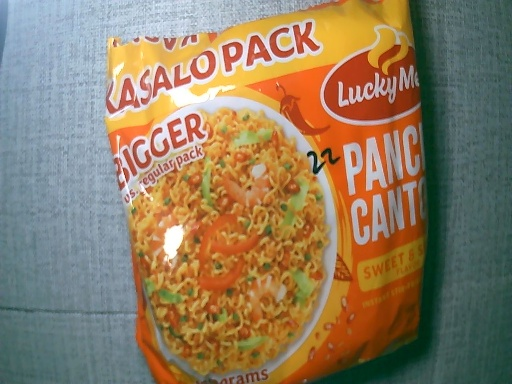plastic: (102, 1, 416, 384)
